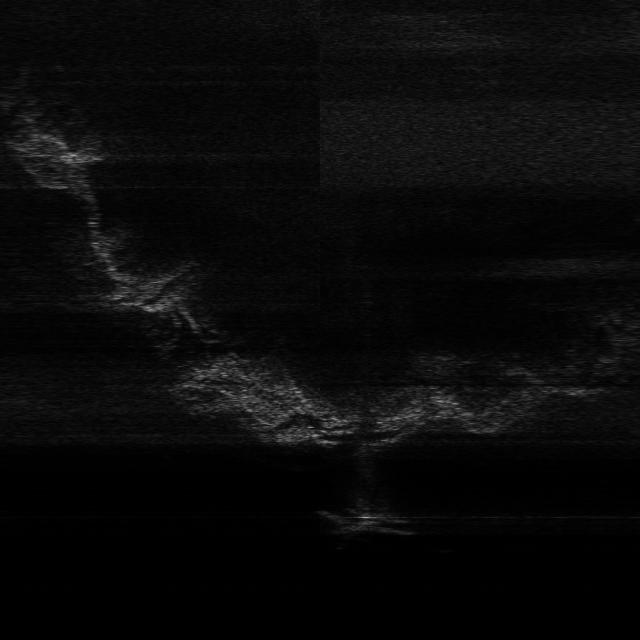plane: (320, 504, 418, 538)
